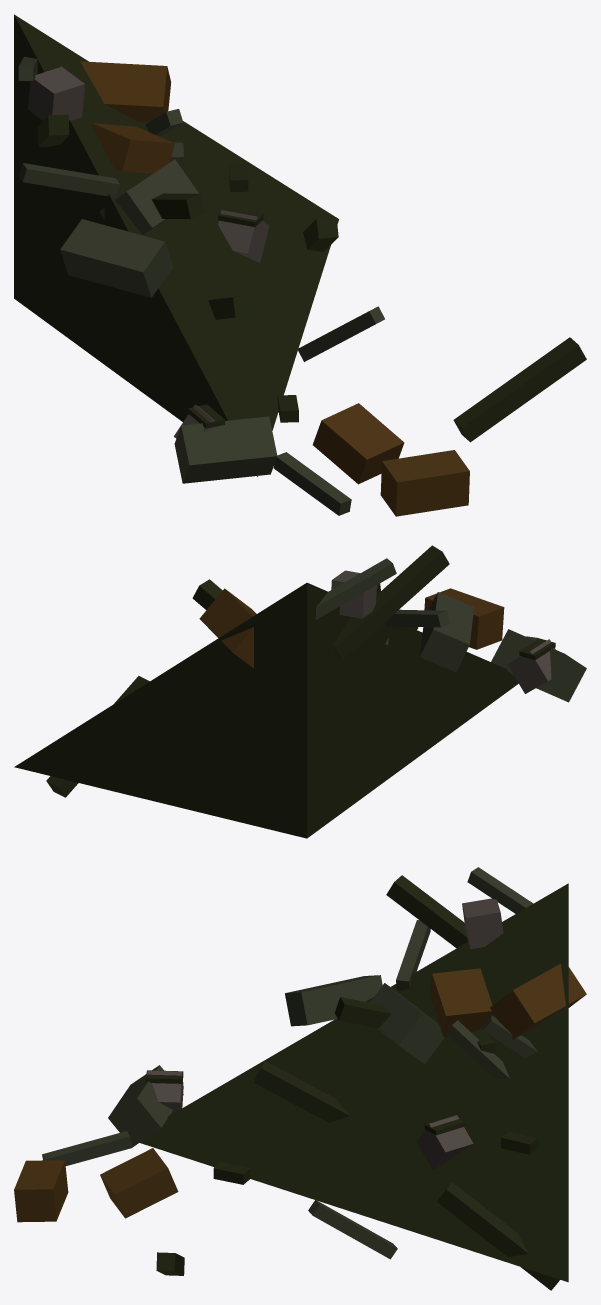
The model's file is SM_PilaZombi_RemateDer_Altura3_s0_LOD0.fbx.
3 views of the same model, one above another, from view 1: azimuth 30°, elevation 25°; view 2: azimuth 150°, elevation 25°; view 3: azimuth 270°, elevation 25° (orthographic). The views are drawn at different scales.
Visible parts, largest first — view 1: SM_pila_zombis_v2_LOD0; view 2: SM_pila_zombis_v2_LOD0; view 3: SM_pila_zombis_v2_LOD0.
Boxes of the visible parts, left/top/right/bottom form: SM_pila_zombis_v2_LOD0: left=14, top=14, right=586, bottom=516; SM_pila_zombis_v2_LOD0: left=14, top=545, right=586, bottom=838; SM_pila_zombis_v2_LOD0: left=14, top=867, right=586, bottom=1290.
Bounding box in the file's own units: 2.63 × 1.92 × 3.45.
